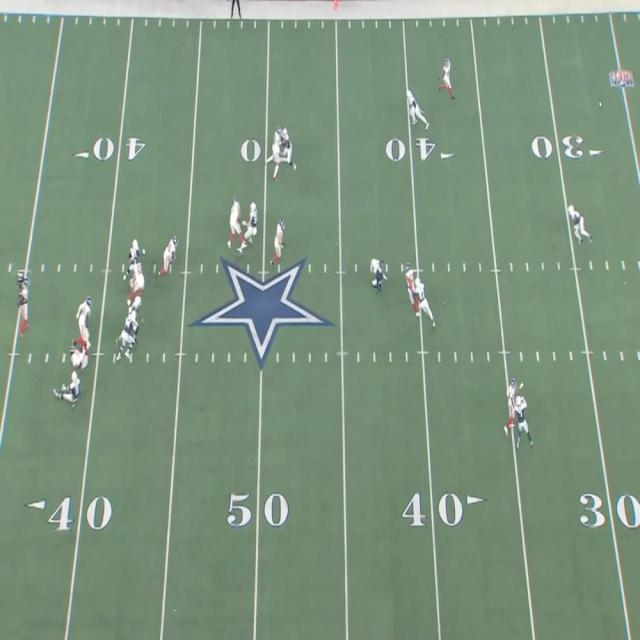db: (516, 389, 534, 447), (569, 204, 589, 243), (416, 280, 434, 323), (407, 87, 421, 126), (282, 130, 292, 172), (373, 260, 382, 286)
lb: (247, 202, 261, 254)
qb: (19, 275, 29, 332)
skill: (509, 378, 528, 443), (162, 238, 177, 273), (271, 126, 281, 178), (405, 262, 416, 305), (444, 60, 455, 99)
